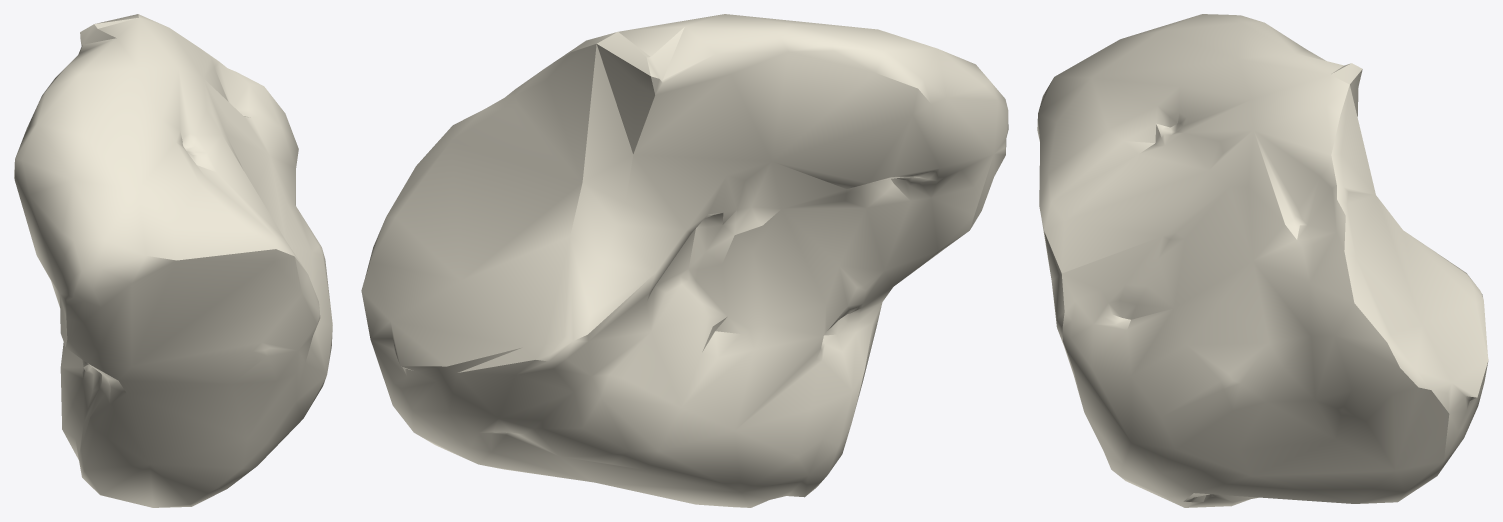
The model's file is fma24521_fj3377.glb.
3 renders of one model, left to right at view 1: azimuth 30°, elevation 25°; view 2: azimuth 150°, elevation 25°; view 3: azimuth 270°, elevation 25°, orthographic. The views are drawn at different scales.
Visible parts, largest first — view 1: FMA24521_FJ3377; view 2: FMA24521_FJ3377; view 3: FMA24521_FJ3377.
Part boxes in pixels (x1,y1,x2,y2): FMA24521_FJ3377: (14,14,332,507); FMA24521_FJ3377: (361,14,1008,507); FMA24521_FJ3377: (1037,14,1488,507).
Bounding box in the file's own units: 0.0281 × 0.031 × 0.0285.
